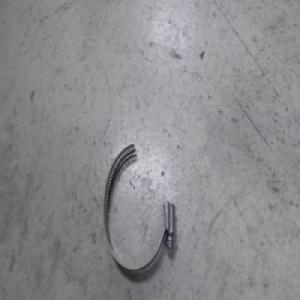AdjustableClamp: (103, 140, 175, 269)
